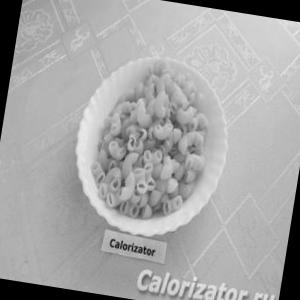pasta: (65, 50, 232, 232)
